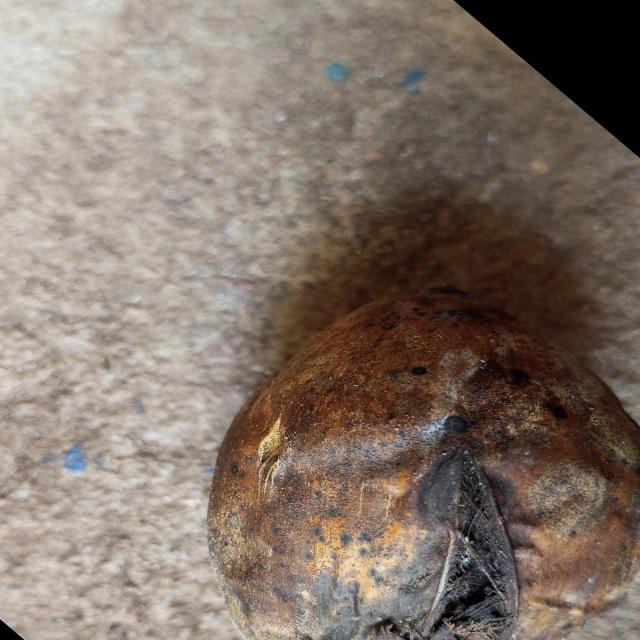damaged: (208, 294, 640, 640)
